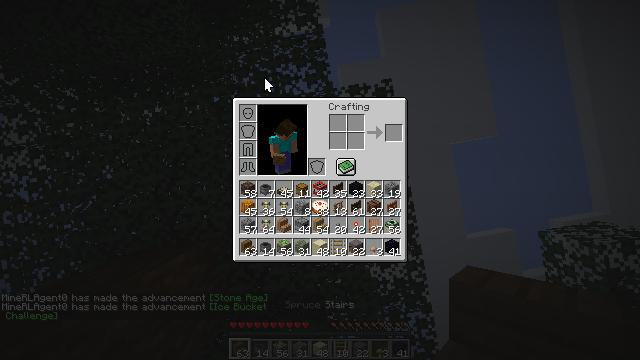cursor: (77, 264, 93, 274)
